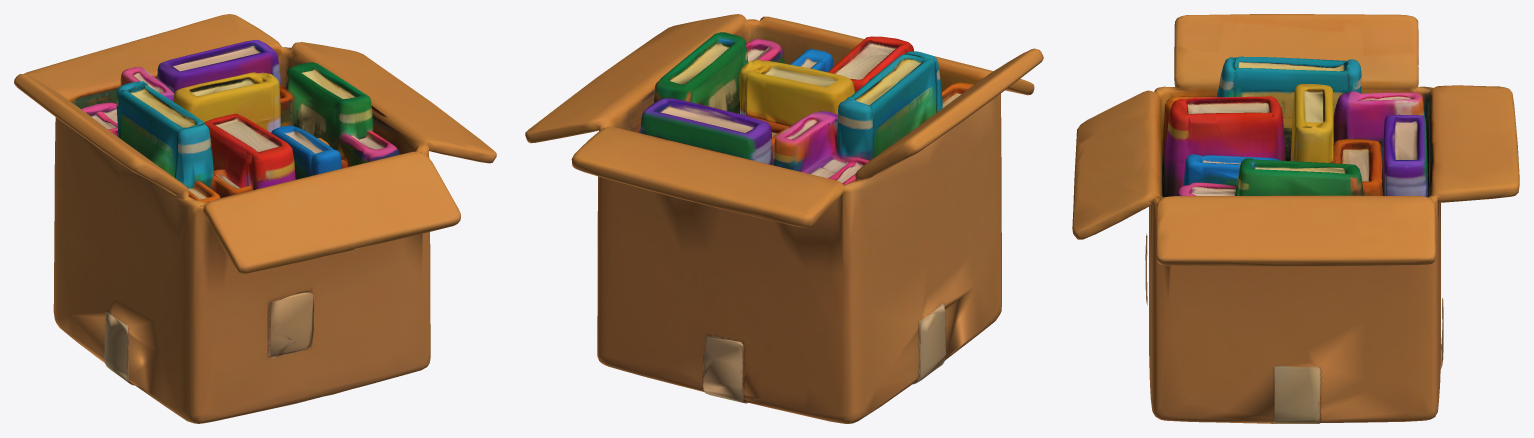
File: box_books.glb
3 renders of one model, left to right at view 1: azimuth 30°, elevation 25°; view 2: azimuth 150°, elevation 25°; view 3: azimuth 270°, elevation 25°, orthographic. The views are drawn at different scales.
Visible parts, largest first — view 1: tripo_node_a389f9f6-a5e0-4524-9725-705f34619ea5; view 2: tripo_node_a389f9f6-a5e0-4524-9725-705f34619ea5; view 3: tripo_node_a389f9f6-a5e0-4524-9725-705f34619ea5.
Boxes of the visible parts, left/top/right/bottom form: tripo_node_a389f9f6-a5e0-4524-9725-705f34619ea5: left=14, top=14, right=496, bottom=423; tripo_node_a389f9f6-a5e0-4524-9725-705f34619ea5: left=525, top=14, right=1043, bottom=423; tripo_node_a389f9f6-a5e0-4524-9725-705f34619ea5: left=1072, top=14, right=1519, bottom=423.
Bounding box in the file's own units: 0.9296 × 0.6802 × 0.9995.
Materials: 1 (1 with a texture image).
